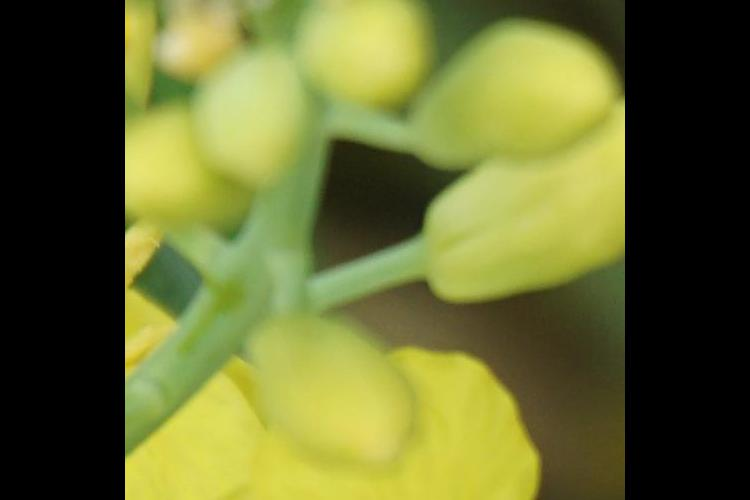bud: (405, 134, 622, 301), (171, 17, 317, 190), (252, 306, 407, 460), (410, 30, 597, 157), (137, 112, 268, 234), (283, 1, 434, 96)
yellow: (135, 333, 538, 500)
